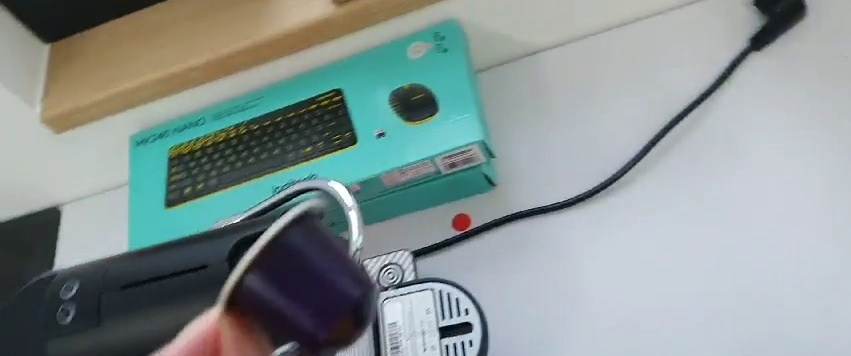capsule_2: (215, 196, 381, 356)
